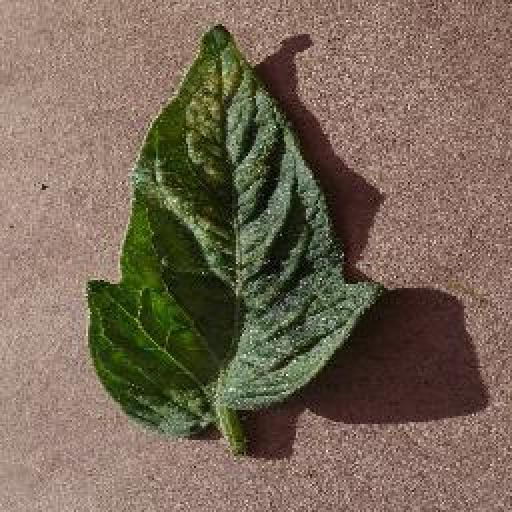Spider Mites: (85, 18, 379, 438)
